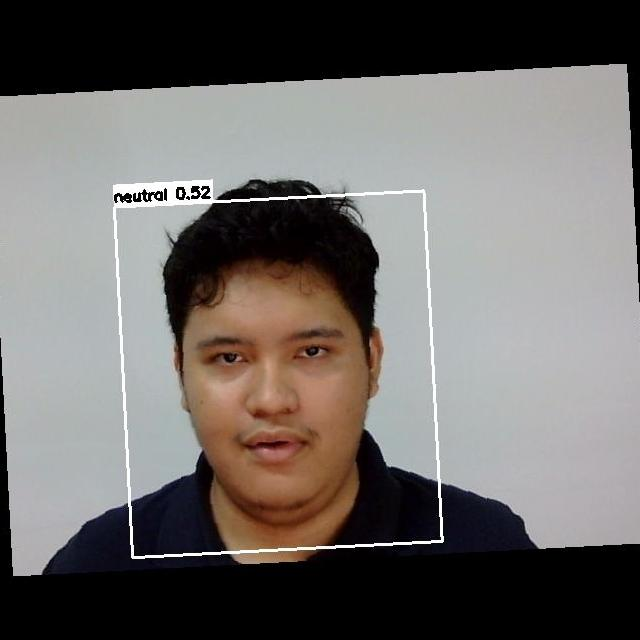Surprised: (180, 306, 367, 486)
